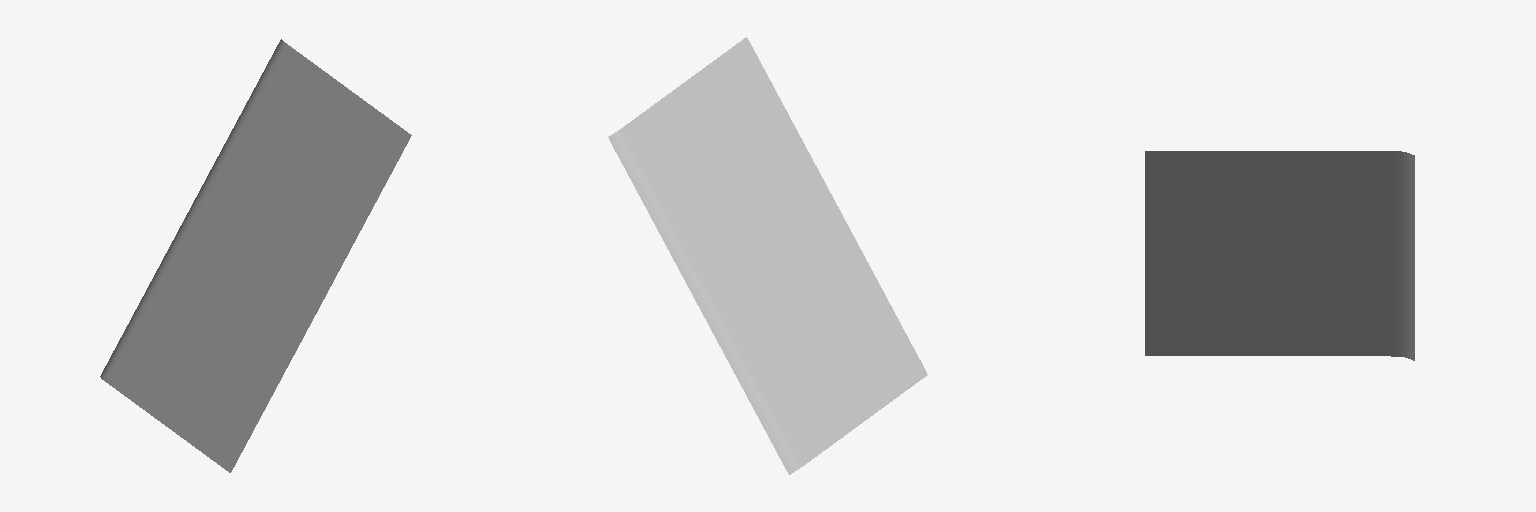
The model's file is Page_19-20_Plane_002.obj.
3 views of the same model, side by side, from view 1: azimuth 30°, elevation 25°; view 2: azimuth 150°, elevation 25°; view 3: azimuth 270°, elevation 25° (orthographic).
Visible parts, largest first — view 1: Page_19-20_Plane.002; view 2: Page_19-20_Plane.002; view 3: Page_19-20_Plane.002.
Part boxes in pixels (x1,y1,x2,y2): Page_19-20_Plane.002: (100,39,411,472); Page_19-20_Plane.002: (608,37,927,474); Page_19-20_Plane.002: (1145,151,1414,360).
Bounding box in the file's own units: 2.26 × 3.45 × 2.84.